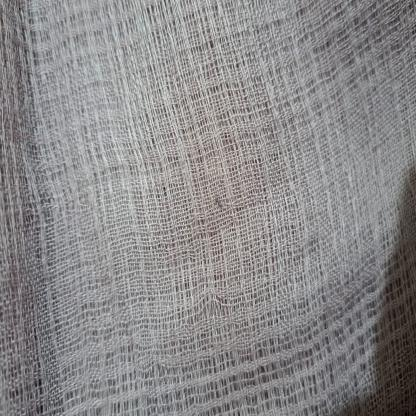spot: (168, 40, 287, 298)
